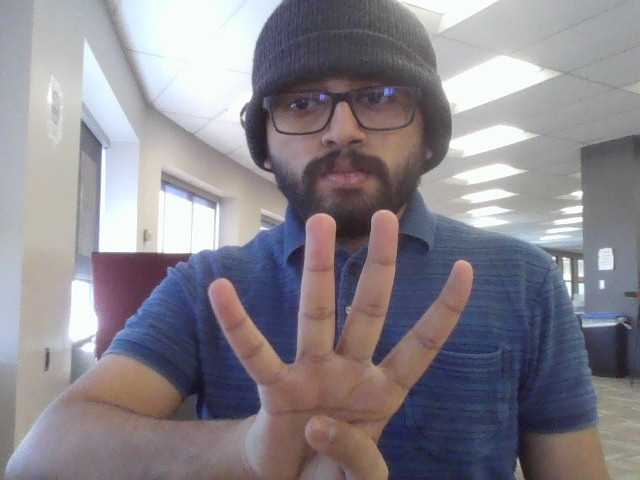start: (206, 207, 475, 480)
